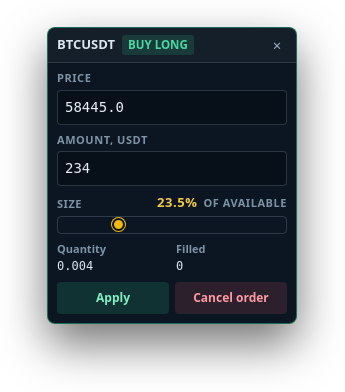
Scenario: FuturesOrderEditor › preserves a typed amount and positions the slider at its nearest half stop
Replace the text in the field named "Order amount in USDT" with "333": (172, 168) [57, 151, 287, 186]
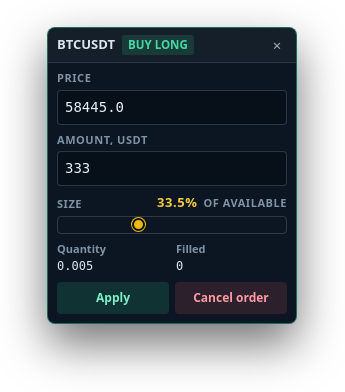
Now the slider named "Working order size percent" holds "33.5", box [57, 216, 287, 234]
